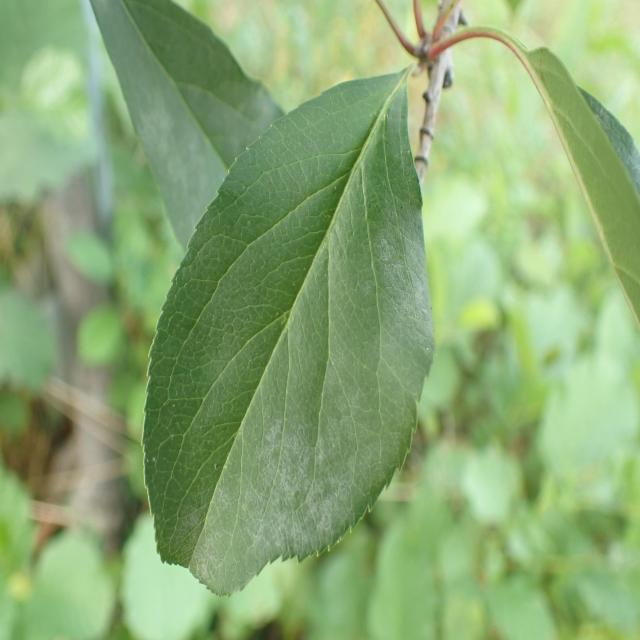Powdery_mildew: (158, 43, 437, 596)
